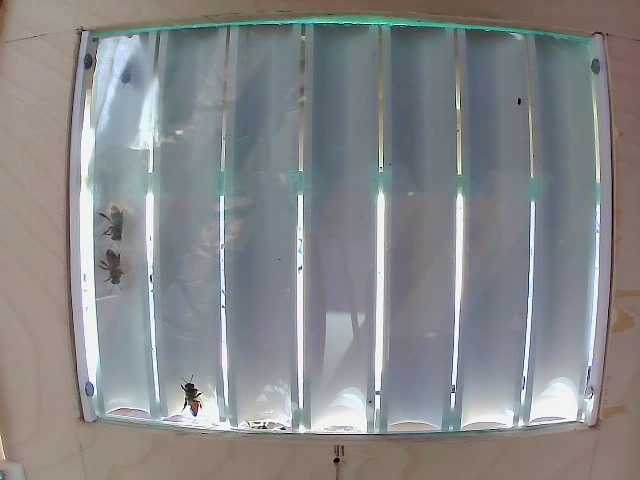bee: (96, 202, 136, 253), (171, 369, 212, 414), (93, 247, 131, 289)
